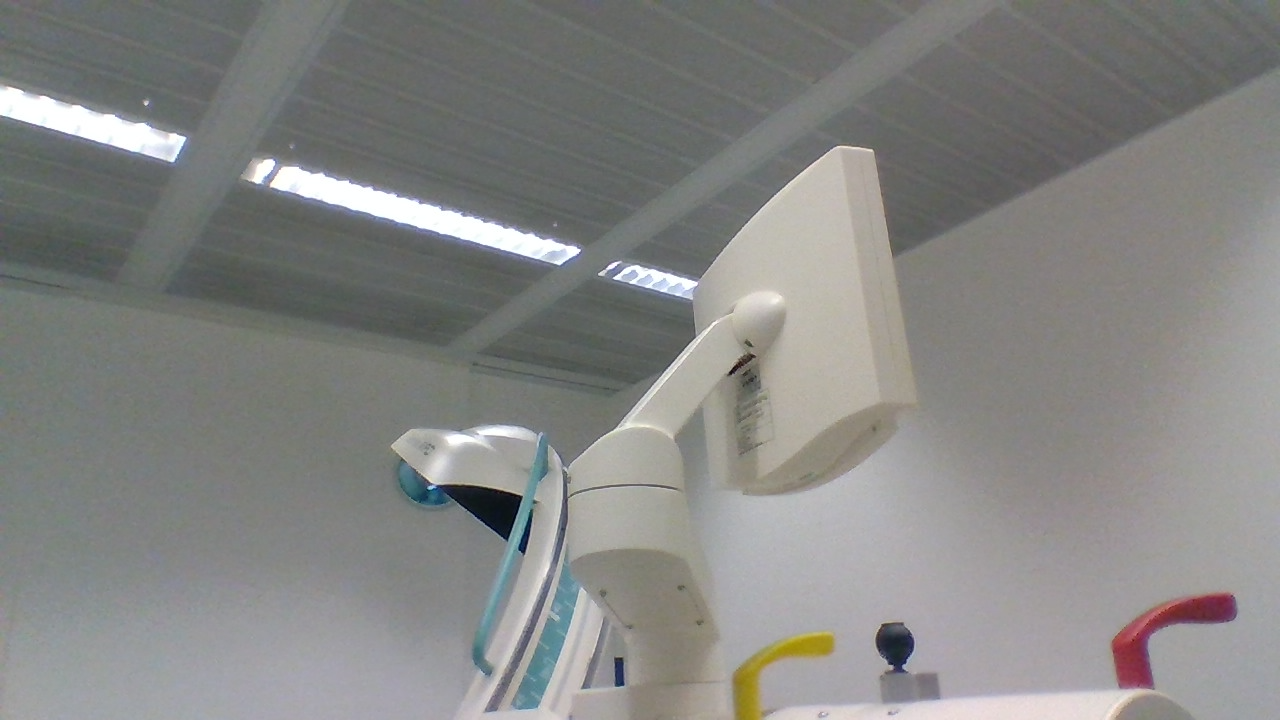carmSCREEN: (690, 146, 919, 495)
carmUP: (387, 423, 601, 556)
